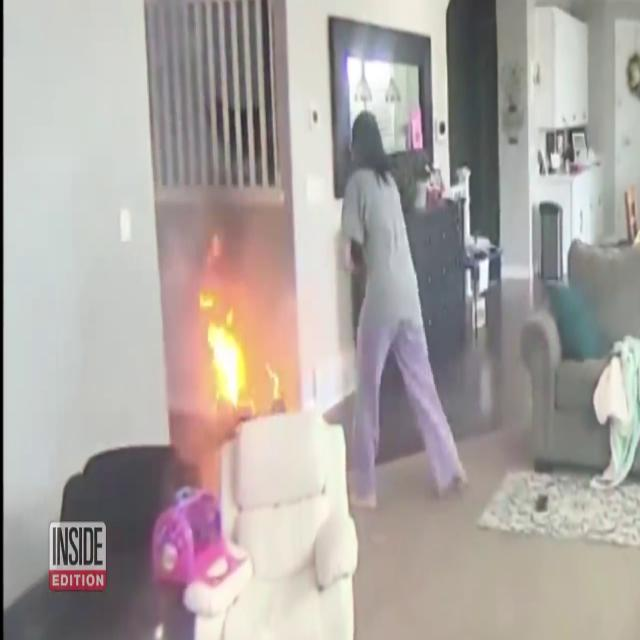Fire: (196, 284, 251, 416)
